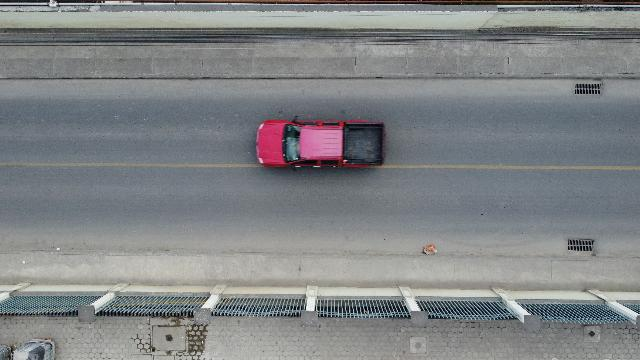Vehiculo: (256, 117, 386, 169)
